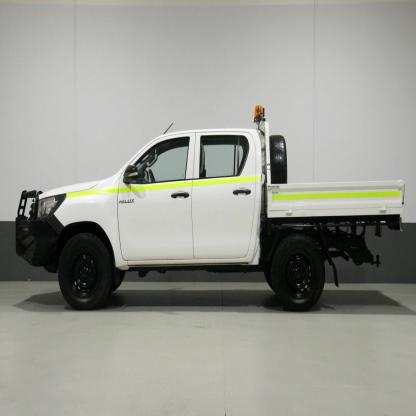light_vehicle: (13, 103, 408, 318)
